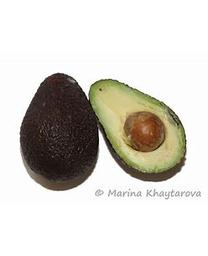avocado: (86, 79, 189, 185), (18, 71, 100, 191)
